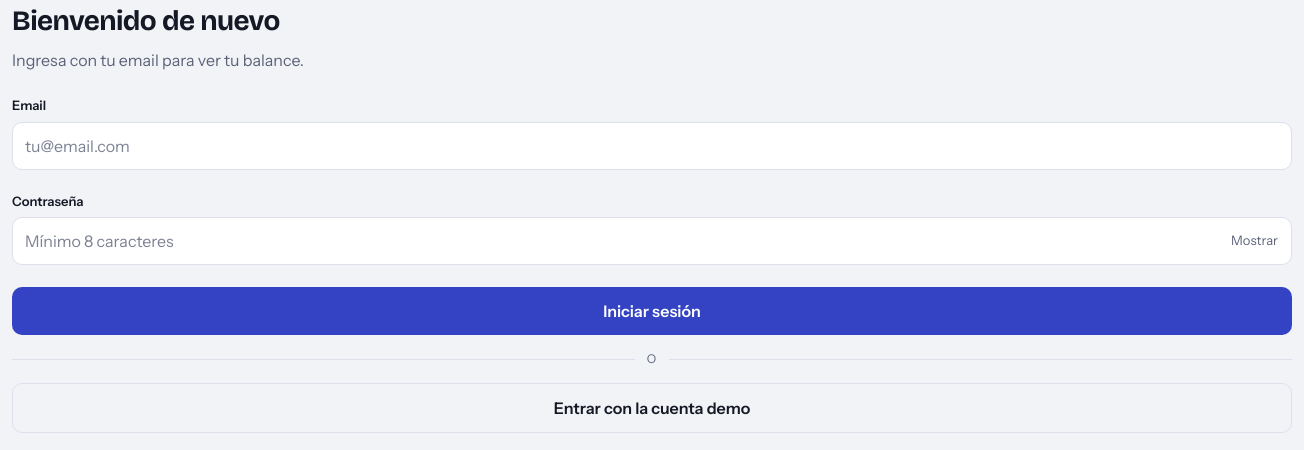
Test case: LoginComponent › submit válido deshabilita el botón, no resetea el form y navega a /app al éxito
In the field with id "email": (652,146) [12,122,1292,170], type "ana@email.com"
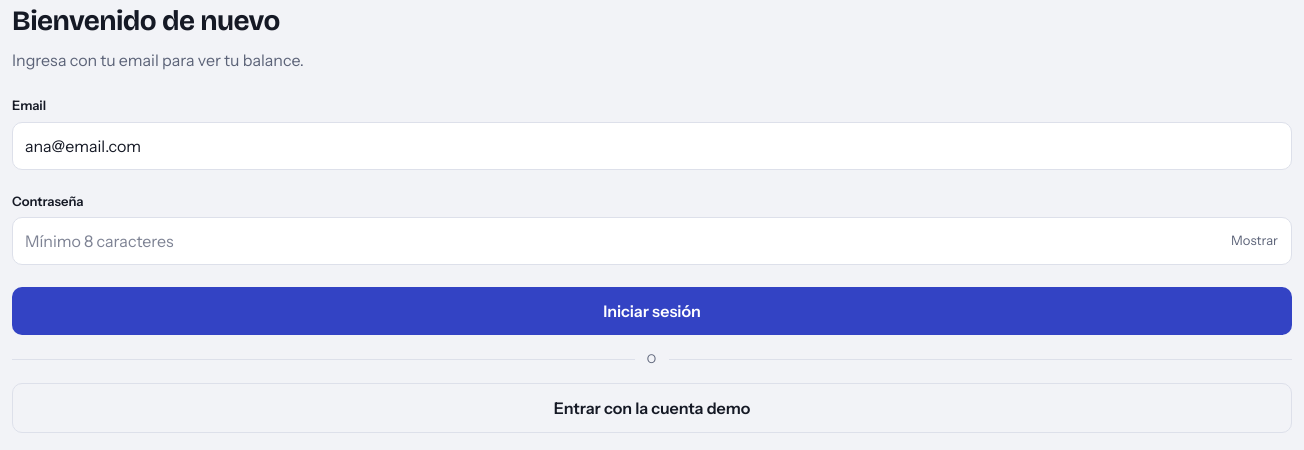
In the password field labelled "Contraseña": (652,241) [12,217,1292,265], type "12345678"
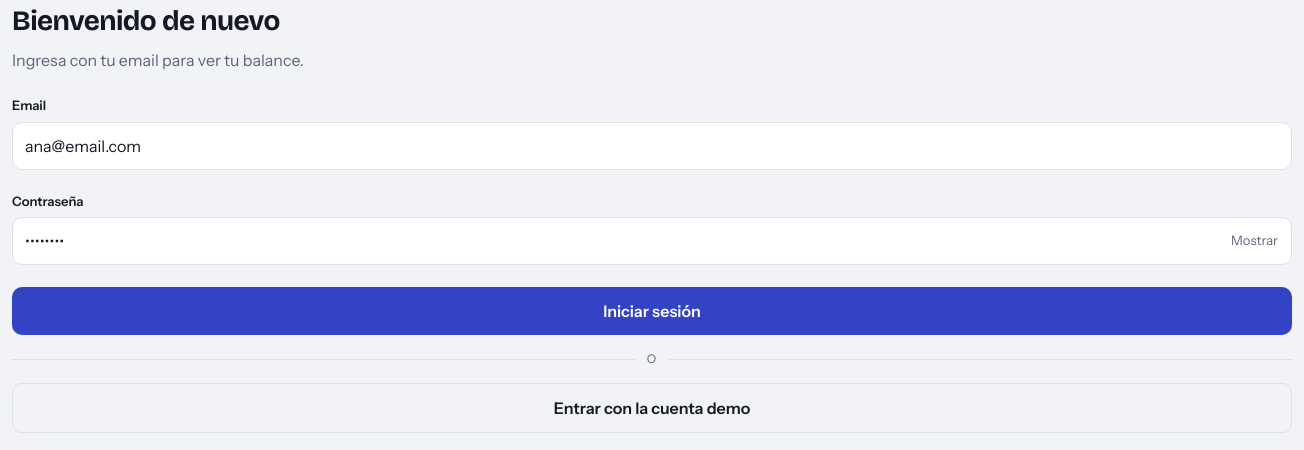
Submit the form
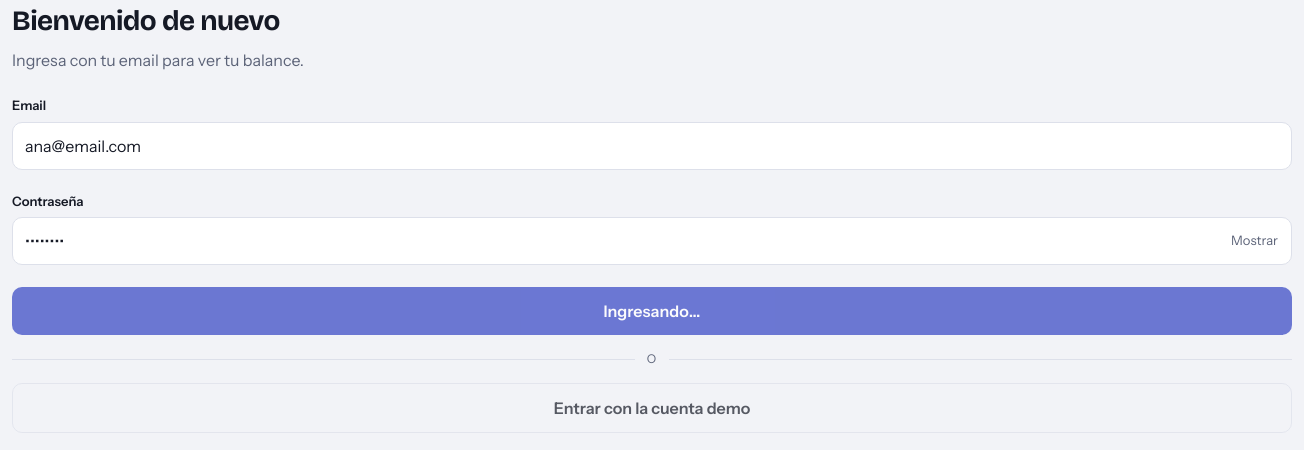
Expected: the button with id "auth-submit" is disabled, [12,287,1292,335]
Expected: the button with id "auth-submit" reads "Ingresando…", [12,287,1292,335]
